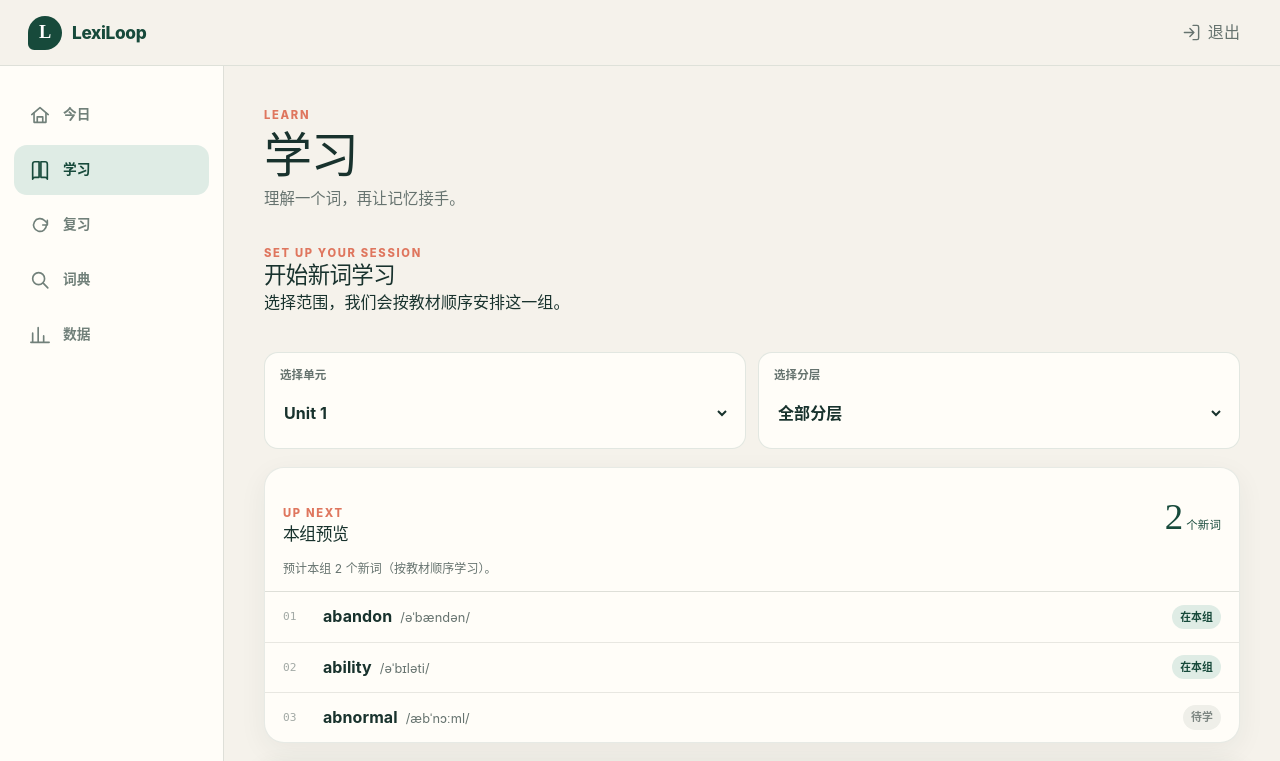
Scenario: LearnSetupPage › selects the Unit (defaulting to the settings start unit) and a tier, and previews the group in textbook order
This screenshot has width=1280, height=761.
Expected: the heading "学习" is shown, [264,125,358,184]
Expected: the dropdown labelled "选择单元" shows "Unit 1", [280,391,730,435]
Select "EXTENSION" in the dropdown labelled "选择分层": coordinates (999, 413) [774,391,1224,435]
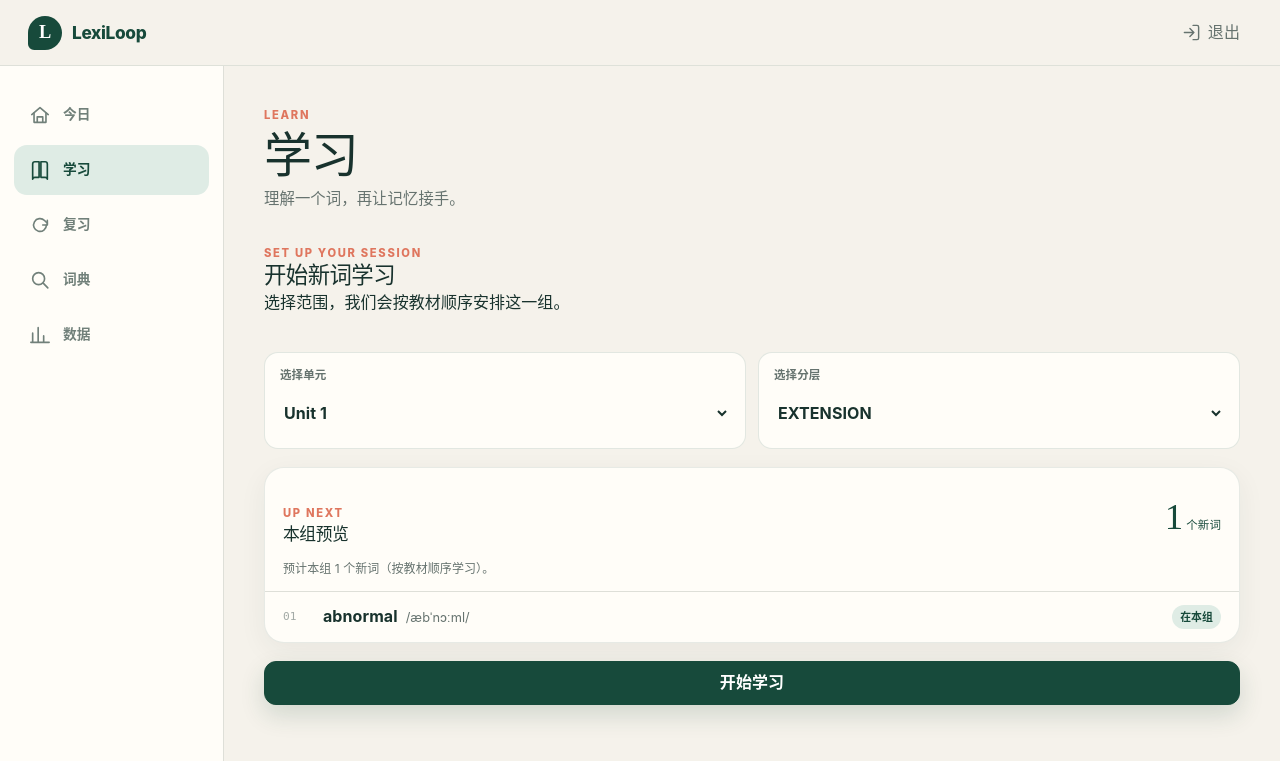
Expected: the text "abnormal" is shown, [323,603,398,630]
Expected: the text "预计本组 1 个新词（按教材顺序学习）。" is shown, [283,561,494,576]
Expected: the text "abandon" is gone
